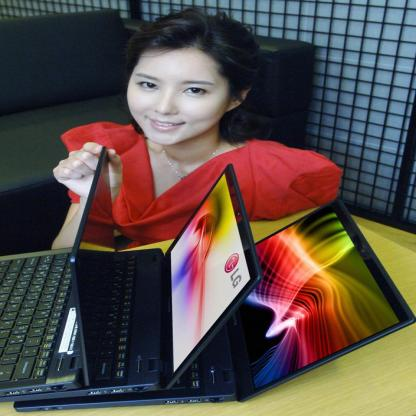board: (13, 198, 416, 413), (2, 164, 262, 404), (0, 146, 122, 397)
